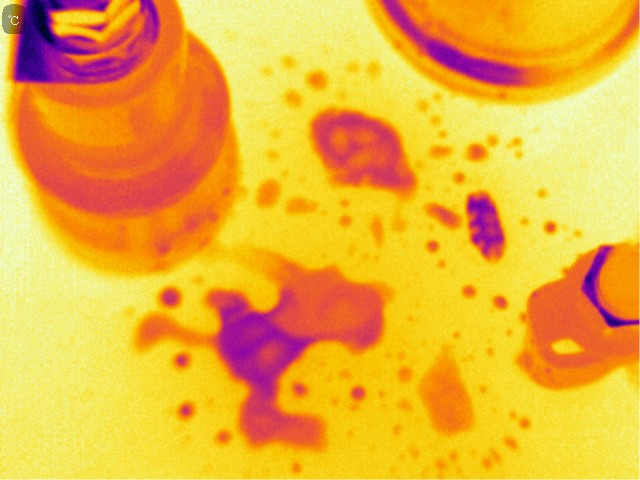Water: (125, 236, 402, 451), (313, 108, 418, 197), (413, 345, 475, 438), (462, 186, 510, 265), (423, 198, 464, 239), (421, 446, 469, 479), (464, 136, 492, 168), (510, 404, 538, 433), (481, 443, 509, 472), (287, 194, 317, 220), (255, 179, 283, 205), (158, 285, 186, 311), (173, 397, 199, 425), (507, 131, 529, 163), (286, 379, 315, 401), (416, 90, 444, 110), (426, 142, 456, 160), (337, 212, 361, 234), (540, 215, 562, 238), (212, 428, 236, 449), (172, 350, 195, 371), (501, 432, 525, 452), (349, 380, 368, 403), (395, 363, 414, 385), (461, 281, 479, 304), (283, 456, 307, 473), (310, 69, 326, 89), (487, 127, 500, 151), (279, 51, 296, 68), (493, 291, 508, 310), (283, 89, 300, 105), (535, 185, 551, 201), (426, 236, 442, 252)
